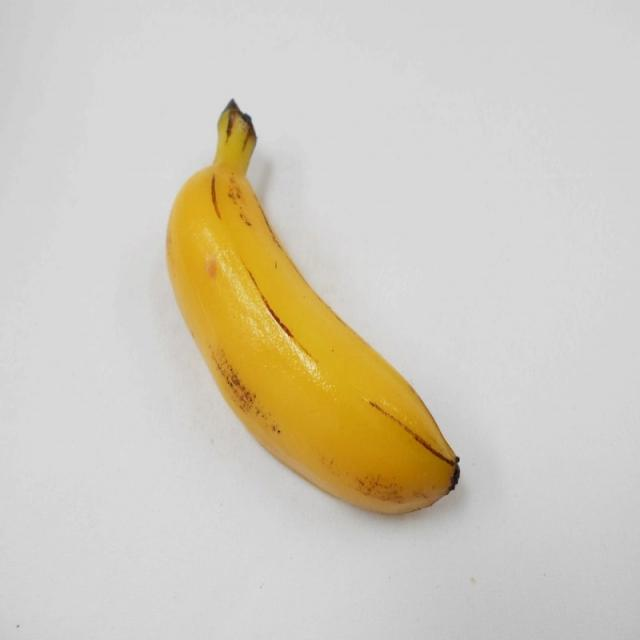Banana: (156, 90, 466, 510)
